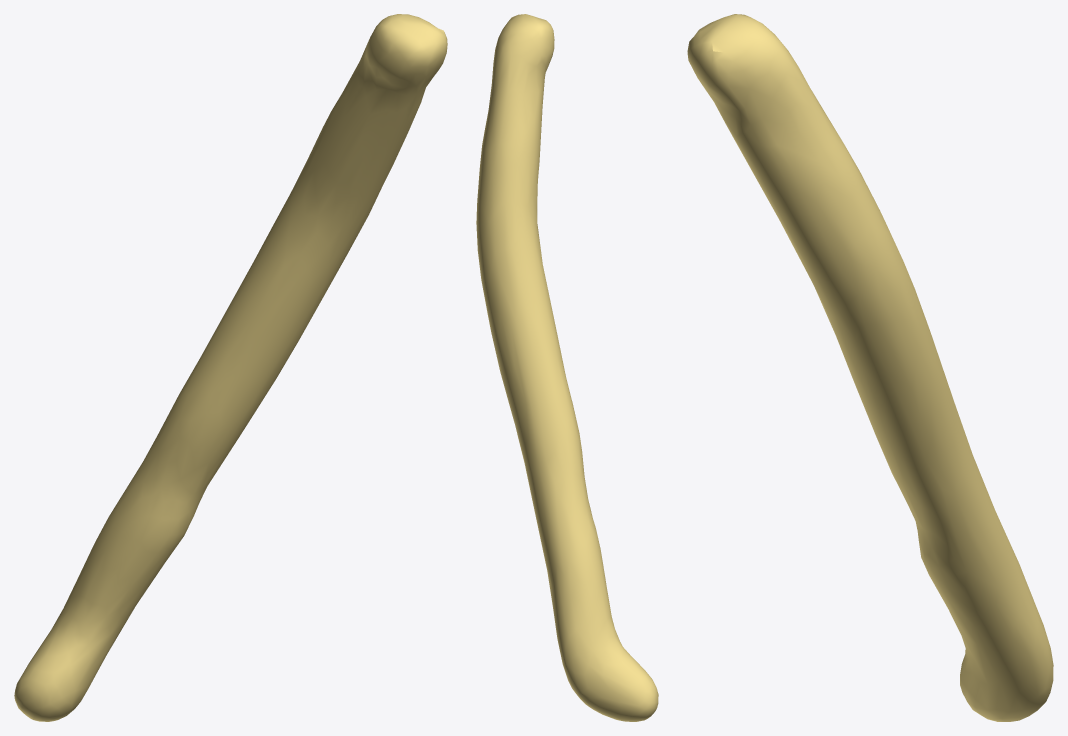
File: fma256691-l_mm3526.glb
3 views of the same model, side by side, from view 1: azimuth 30°, elevation 25°; view 2: azimuth 150°, elevation 25°; view 3: azimuth 270°, elevation 25° (orthographic). The views are drawn at different scales.
Parts seen in each view (by area): view 1: FMA256691-L_MM3526; view 2: FMA256691-L_MM3526; view 3: FMA256691-L_MM3526.
Boxes of the visible parts, <box> form: FMA256691-L_MM3526: <box>14,14,447,721</box>; FMA256691-L_MM3526: <box>476,14,658,721</box>; FMA256691-L_MM3526: <box>687,14,1053,721</box>.
Size of the model in its own units: 0.00683 by 0.0154 by 0.00617.
